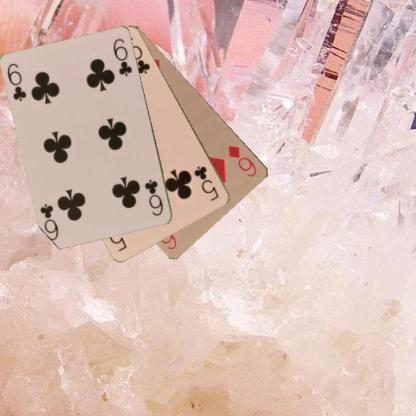5c: (192, 163, 220, 203)
6c: (5, 61, 28, 103), (142, 177, 165, 217)
6d: (225, 142, 258, 178)
